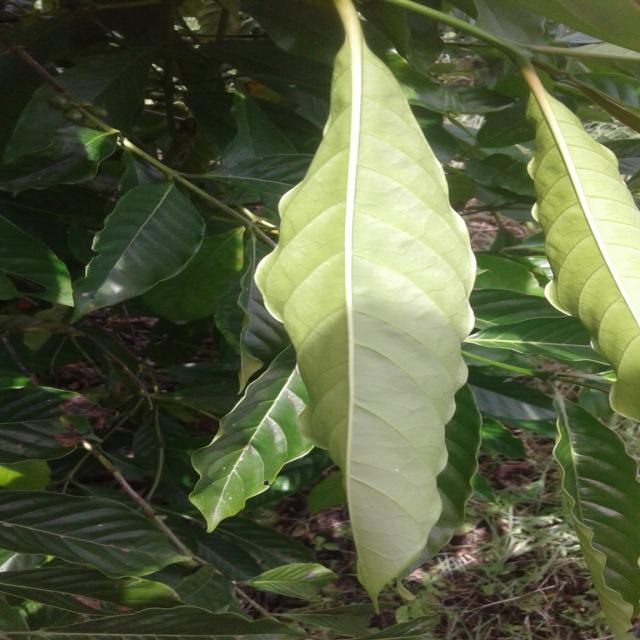Sanas: (257, 0, 481, 622)
